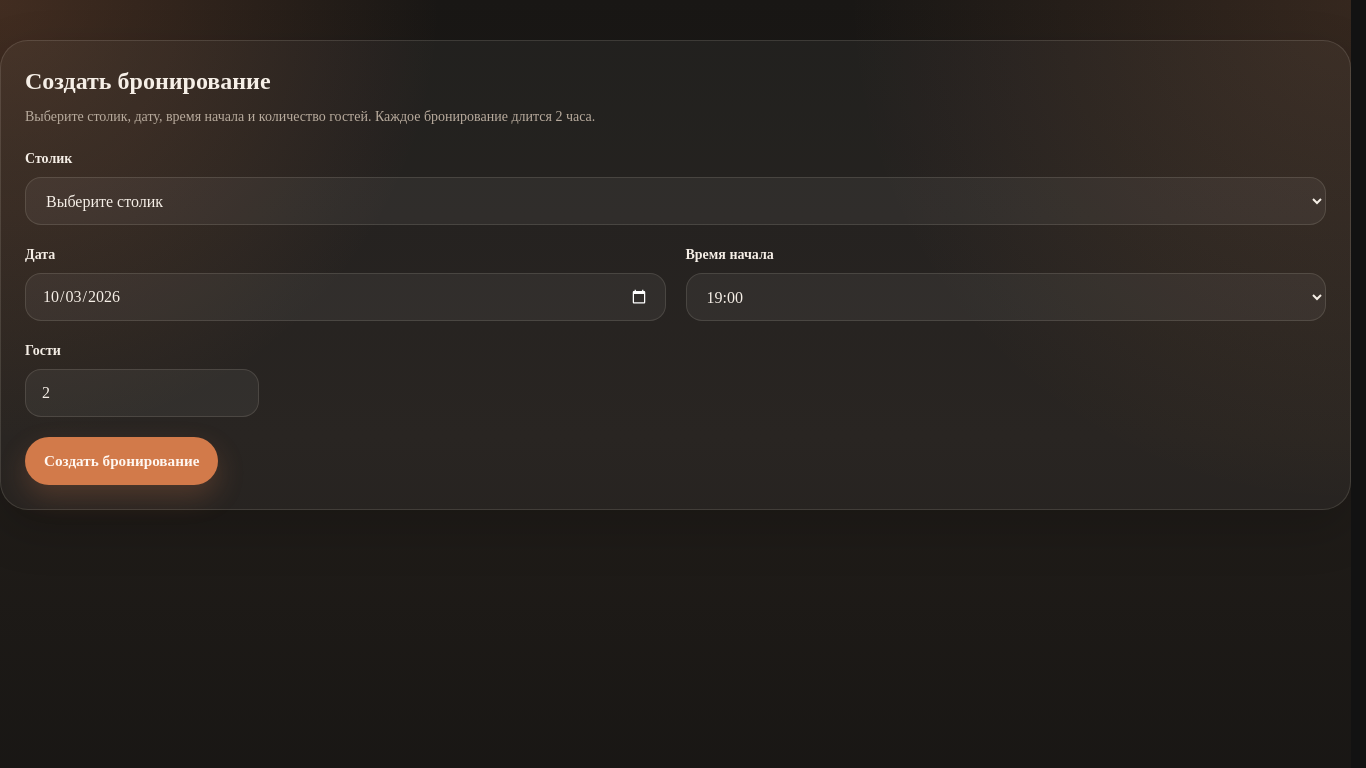
Test: BookingForm › shows session expired error when there is no valid access token
The image size is (1366, 768).
Select "Table 1 · 2 guests · REGULAR" in the dropdown labelled "Столик" at [676, 201], box [25,177,1326,225]
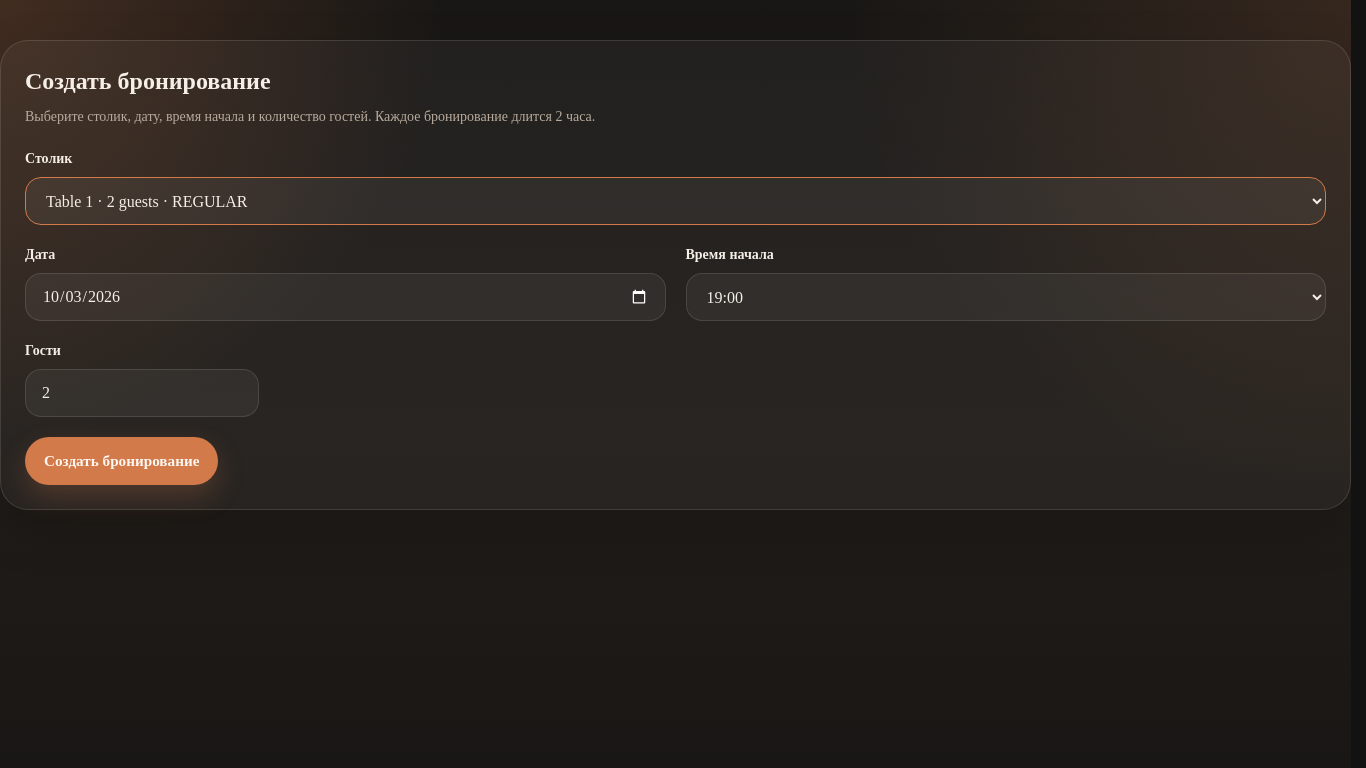
Click the button "Создать бронирование" at [122, 461], box [25,437,218,485]
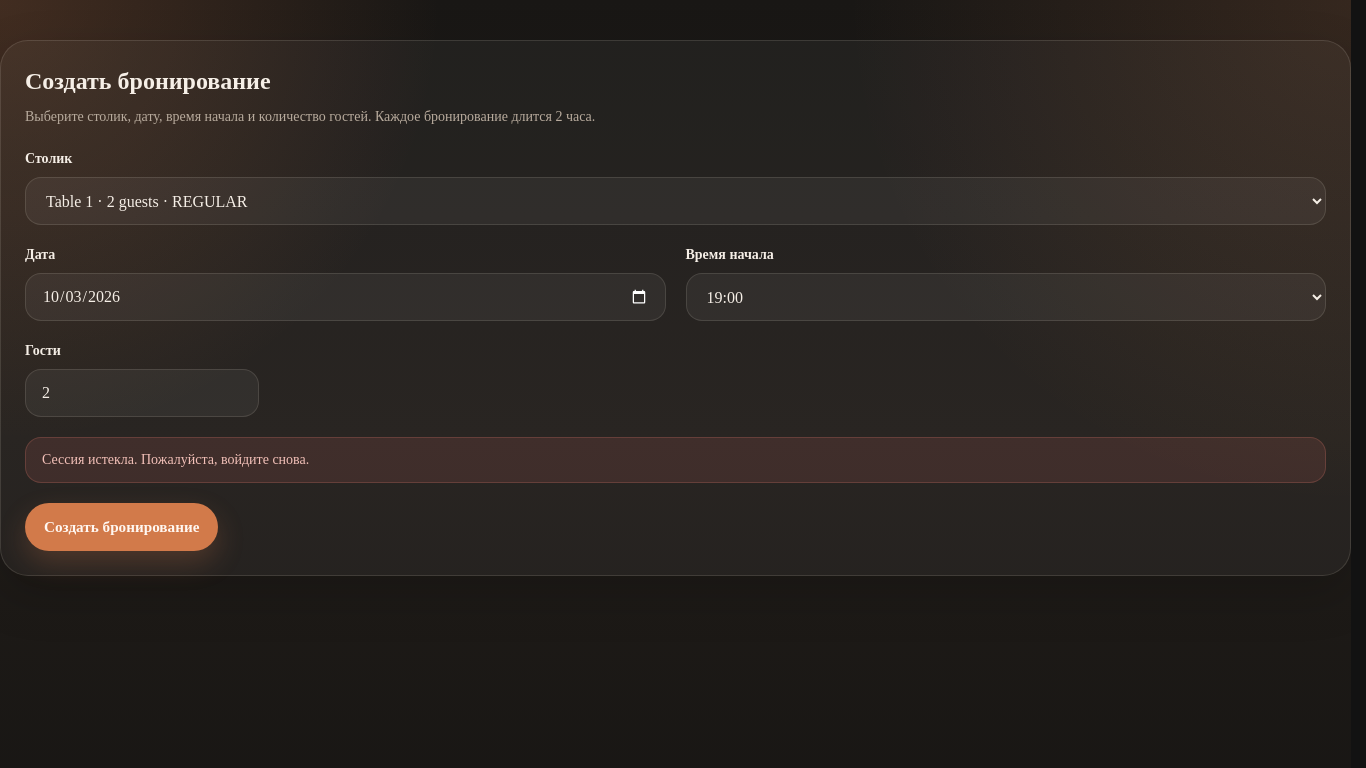
Result: the text "Сессия истекла. Пожалуйста, войдите снова." is shown at [25,437,1326,483]
